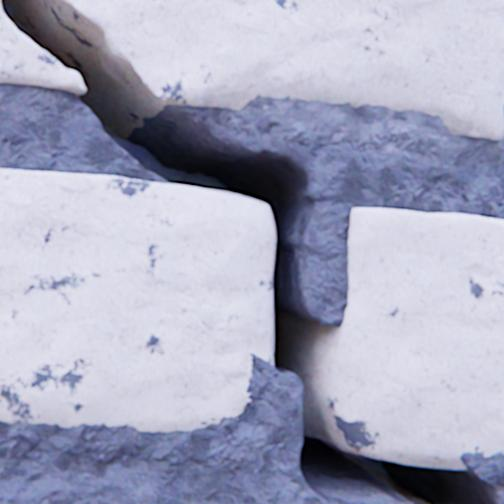brick: (0, 169, 269, 431), (338, 208, 503, 457)
broken_brick: (60, 0, 503, 140), (0, 0, 85, 92)
crack: (1, 0, 503, 503)
